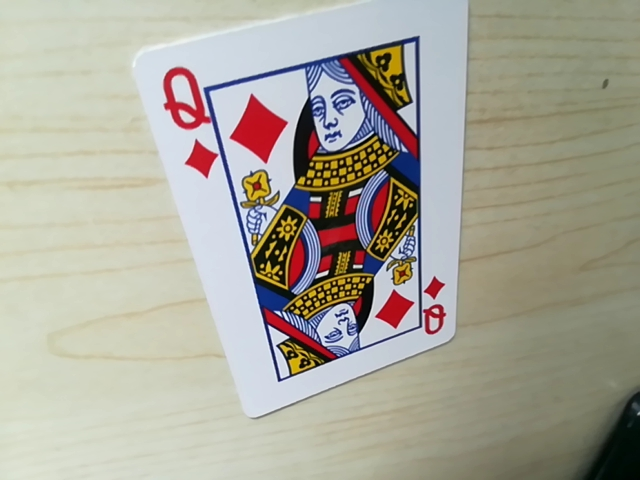fk q: (157, 51, 232, 179), (411, 294, 456, 337)
